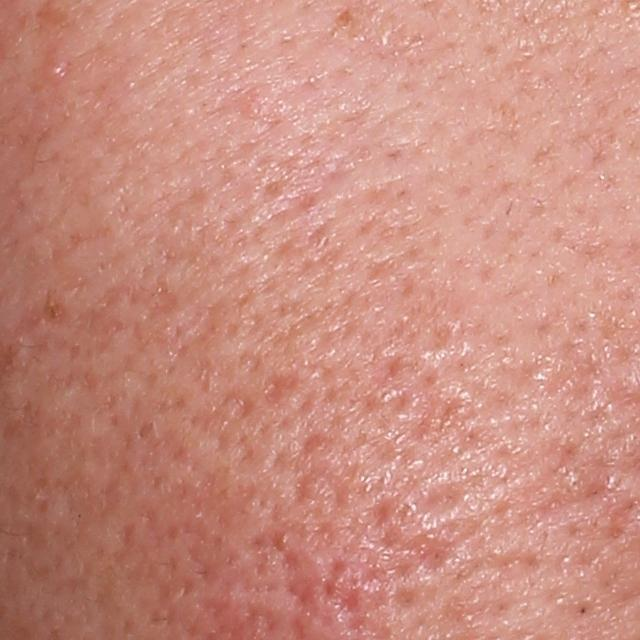atrophic_scar: (266, 531, 316, 607), (377, 522, 448, 575), (406, 480, 462, 516), (264, 372, 300, 406)
comedo: (40, 55, 72, 78)
